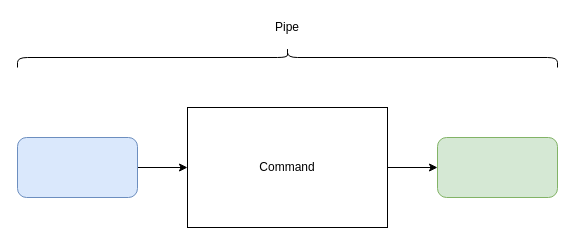
Image size: 575x245. Some labels were removed from this diagram. Here are the shapes that lost their labels. From the top down, the centre of each, then its label:
point (77, 167): Input Message
point (497, 167): Output Message
